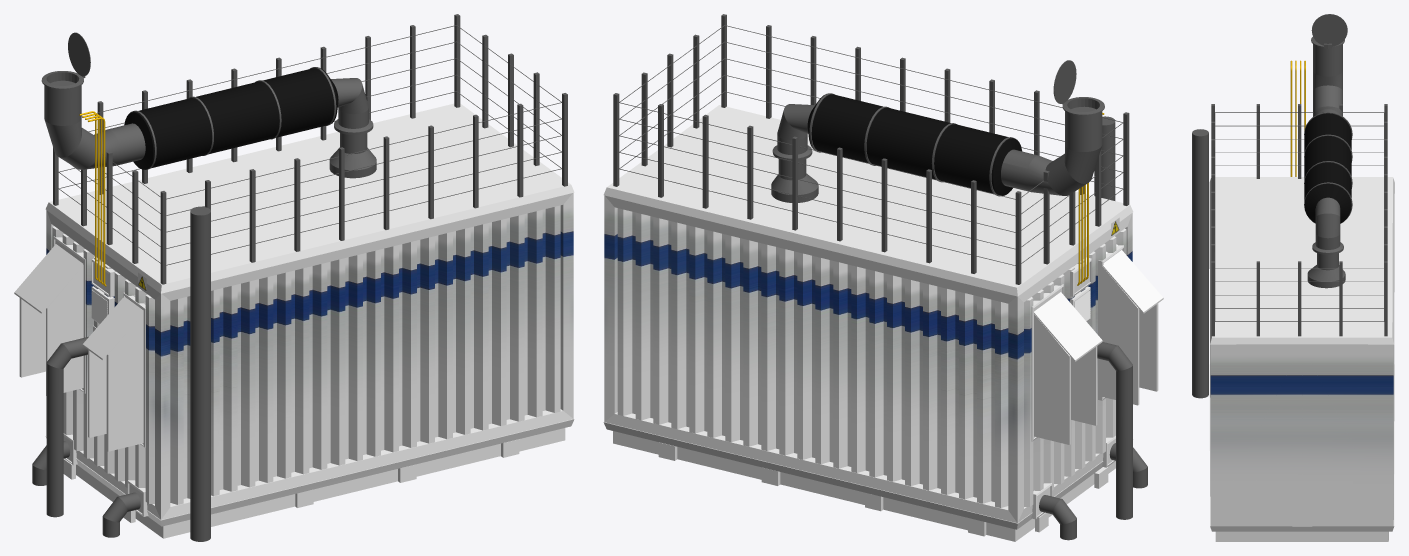
File: ElectroStation.fbx
3 views of the same model, side by side, from view 1: azimuth 30°, elevation 25°; view 2: azimuth 150°, elevation 25°; view 3: azimuth 270°, elevation 25° (orthographic). The views are drawn at different scales.
Visible parts, largest first — view 1: Box004; view 2: Box004; view 3: Box004.
Boxes of the visible parts, left/top/right/bottom form: Box004: left=14, top=14, right=574, bottom=541; Box004: left=603, top=14, right=1163, bottom=541; Box004: left=1192, top=14, right=1394, bottom=541.
Bounding box in the file's own units: 706 × 655 × 328.
Materials: 6 (2 with a texture image).
